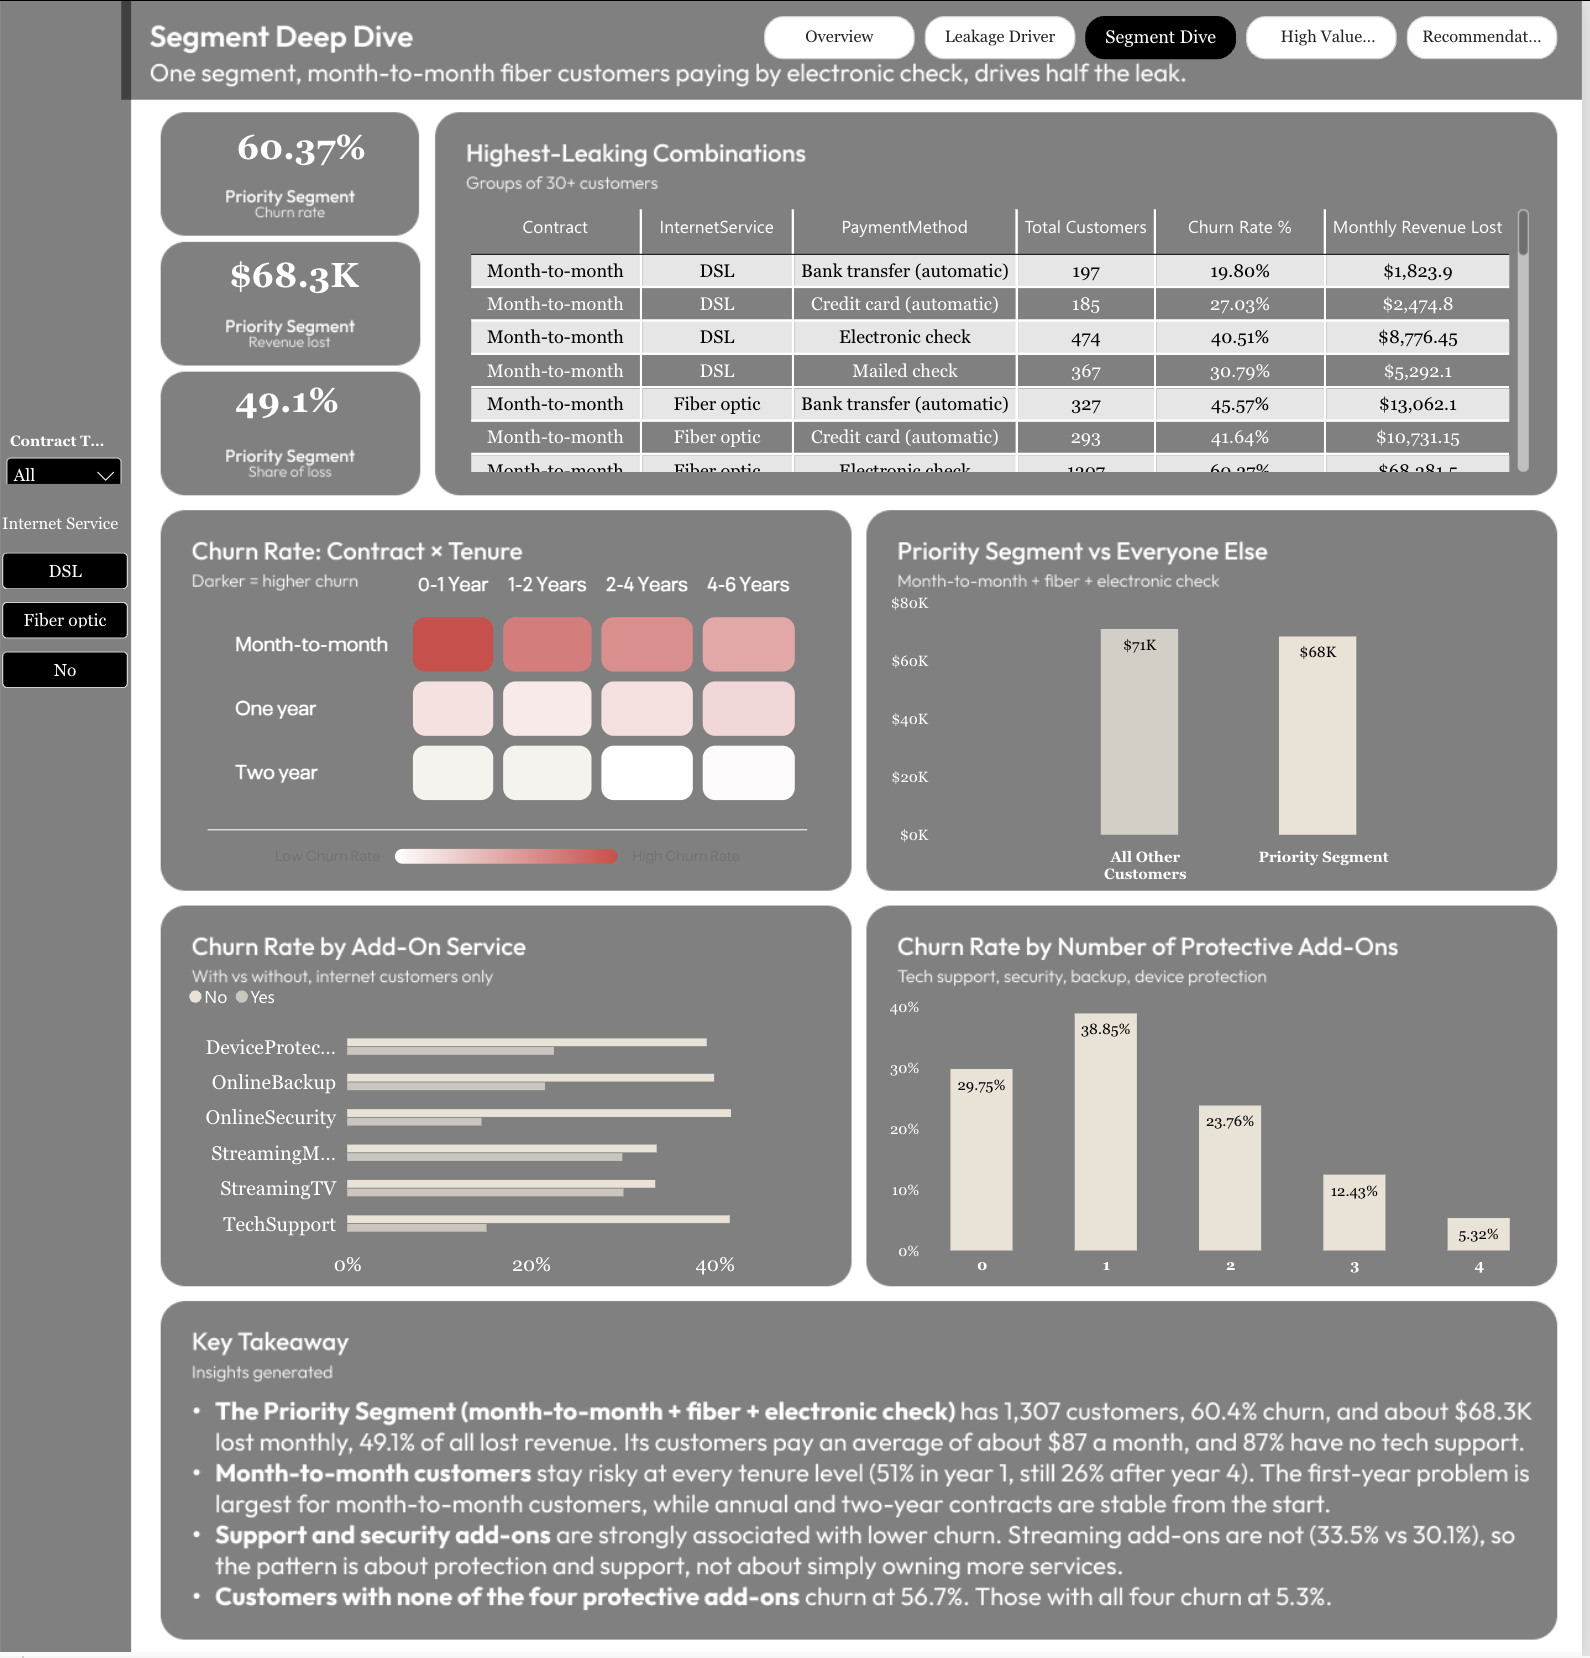

The dashboard page shown, as its layout file describes it:
{"tool":"powerbi","page":{"name":"Segment Dive","canvas":[1280,1340],"ordinal":2},"visuals":[{"type":"nexoraHeatmap74A92BB1DAE480BBC09C4B425BA7006","fields":{"rows":["Clean IBM Teleco data 2.Contract"],"columns":["Clean IBM Teleco data 2.TenureGroup"],"value":["Clean IBM Teleco data 2.Churn Rate %"]},"box":[136.1,419,548.8,312.7],"z":0},{"type":"clusteredColumnChart","fields":{"Category":["Clean IBM Teleco data 2.Segment Flag"],"Y":["Clean IBM Teleco data 2.Monthly Revenue Lost"]},"box":[704,463.7,548.8,268],"z":1000},{"type":"cardVisual","fields":{"Data":["Clean IBM Teleco data 2.Priority Segment Churn Rate"]},"box":[146.8,83,193.6,72.3],"z":2000},{"type":"cardVisual","fields":{"Data":["Clean IBM Teleco data 2.Priority Segment Lost Revenue"]},"box":[136.1,176.5,204.2,91.5],"z":3000},{"type":"cardVisual","fields":{"Data":["Clean IBM Teleco data 2.Priority Segment Share of Loss"]},"box":[146.8,295.7,170.2,55.3],"z":4000},{"type":"tableEx","fields":{"Values":["Clean IBM Teleco data 2.Contract","Clean IBM Teleco data 2.InternetService","Clean IBM Teleco data 2.PaymentMethod","Clean IBM Teleco data 2.Total Customers","Clean IBM Teleco data 2.Churn Rate %","Clean IBM Teleco data 2.Monthly Revenue Lost"]},"box":[363.7,155.3,889.1,242.5],"z":5000},{"type":"clusteredBarChart","fields":{"Category":["AddOns.Service"],"Series":["AddOns.HasService"],"Y":["AddOns.AddOn Churn Rate"]},"box":[136.1,776.3,548.8,274.4],"z":6000},{"type":"clusteredColumnChart","fields":{"Category":["Clean IBM Teleco data 2.Protective Add-ons"],"Y":["Clean IBM Teleco data 2.Churn Rate %"]},"box":[704,791.2,548.8,259.5],"z":7000},{"type":"slicer","fields":{"Values":["Clean IBM Teleco data 2.Contract"]},"box":[0,349.8,103.5,41.9],"z":8000},{"type":"advancedSlicerVisual","title":"Internet Service","fields":{"Values":["Clean IBM Teleco data 2.InternetService"]},"box":[1.3,416.6,102.2,141.5],"z":9000},{"type":"pageNavigator","box":[618.3,13.6,642.7,35.3],"z":10000}]}

Visuals, with their boxes in screenshot pixels (x1, y1, x2, y2), scaled from the page's 1280x1340 canvas onto the 1590x1658 screenshot:
nexoraHeatmap74A92BB1DAE480BBC09C4B425BA7006 - Clean IBM Teleco data 2.Contract x Clean IBM Teleco data 2.TenureGroup: left=169, top=518, right=851, bottom=905
clusteredColumnChart - Clean IBM Teleco data 2.Segment Flag x Clean IBM Teleco data 2.Monthly Revenue Lost: left=874, top=574, right=1556, bottom=905
cardVisual - Clean IBM Teleco data 2.Priority Segment Churn Rate: left=182, top=103, right=423, bottom=192
cardVisual - Clean IBM Teleco data 2.Priority Segment Lost Revenue: left=169, top=218, right=423, bottom=332
cardVisual - Clean IBM Teleco data 2.Priority Segment Share of Loss: left=182, top=366, right=394, bottom=434
tableEx - Clean IBM Teleco data 2.Contract x Clean IBM Teleco data 2.InternetService: left=452, top=192, right=1556, bottom=492
clusteredBarChart - AddOns.Service x AddOns.HasService: left=169, top=961, right=851, bottom=1300
clusteredColumnChart - Clean IBM Teleco data 2.Protective Add-ons x Clean IBM Teleco data 2.Churn Rate %: left=874, top=979, right=1556, bottom=1300
slicer - Clean IBM Teleco data 2.Contract: left=0, top=433, right=129, bottom=485
"Internet Service" advancedSlicerVisual: left=2, top=515, right=129, bottom=691
pageNavigator: left=768, top=17, right=1566, bottom=61
